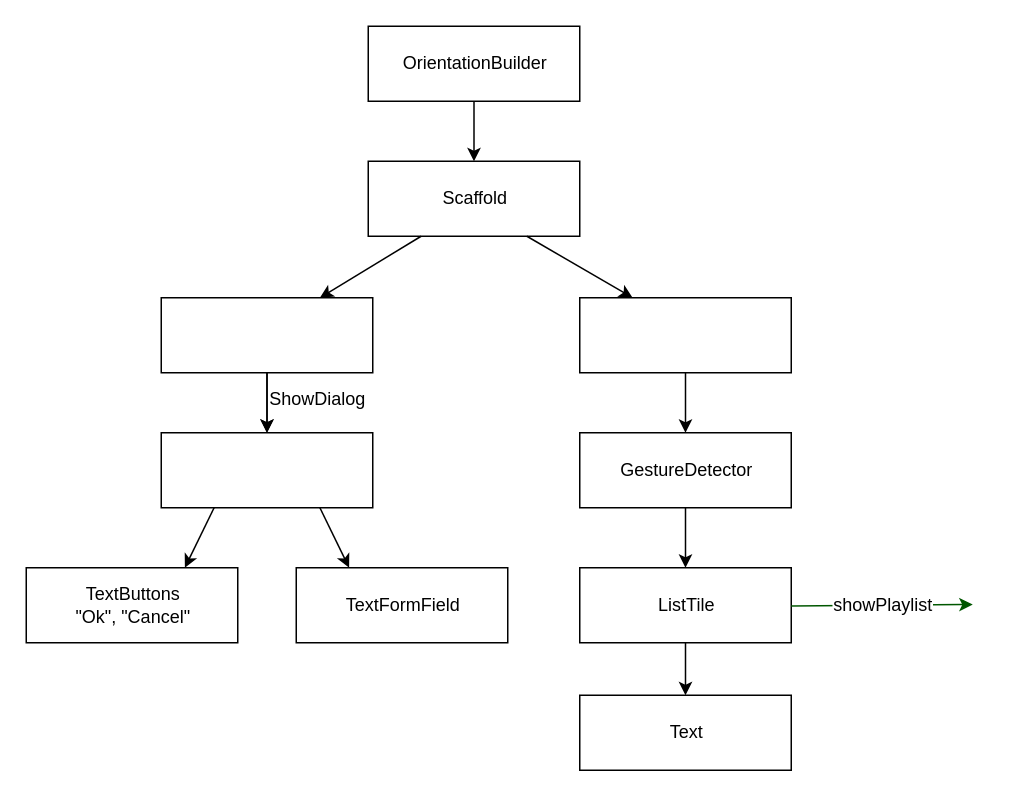
The diagram is 1011 pixels wide and 797 high, and some of its shapes have lost their labels. The shapes that lost their labels are listed below. From the top down, each one's box as (x1, y1, x2, y2) in pixels, then its label:
(160, 296, 373, 373): FloatingActionButton
(578, 296, 791, 373): GridView
(160, 431, 373, 508): AlertDialog
